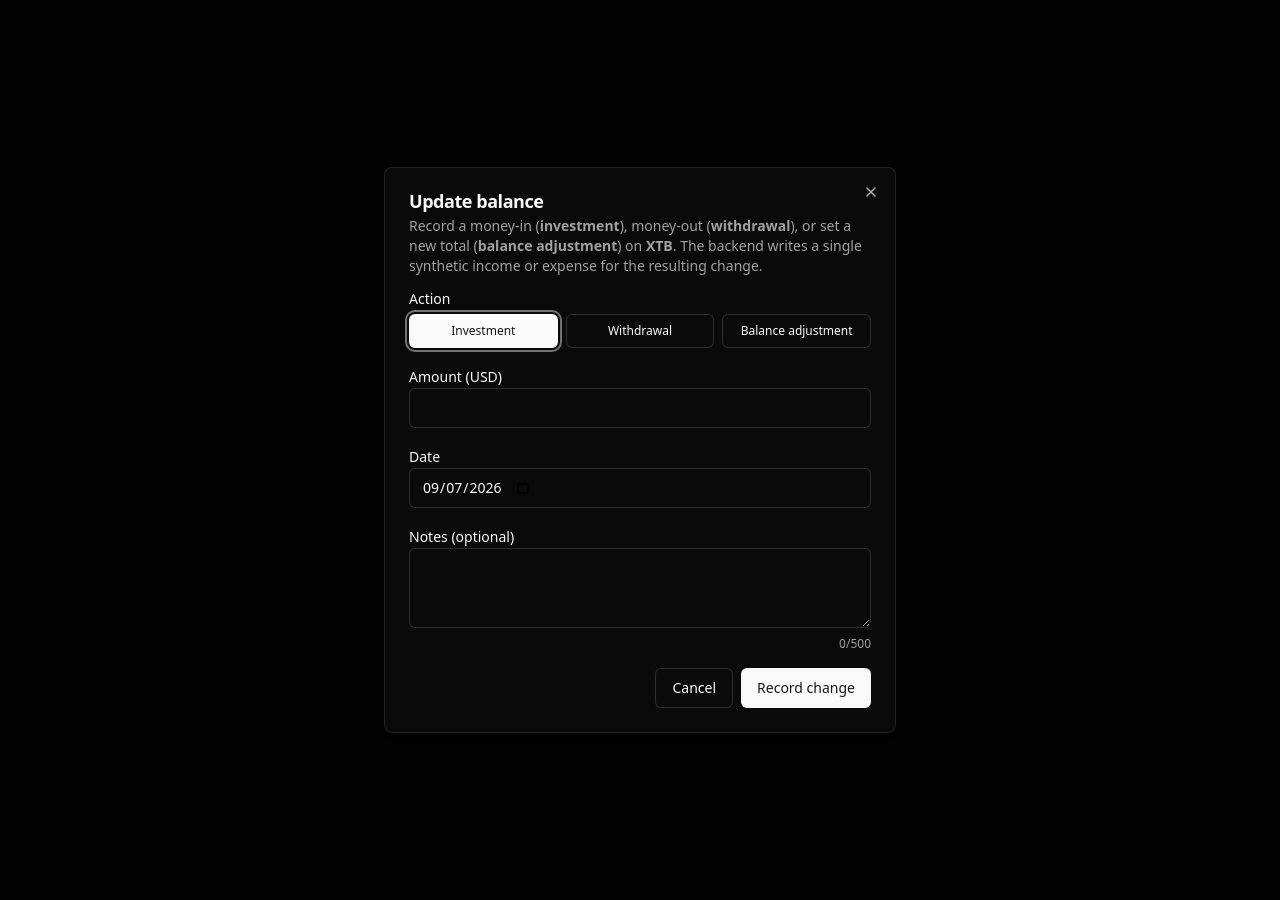
it: UpdateBalanceDialog › rejects a non-positive amount in Investment mode
The width and height of the screenshot is (1280, 900).
Expected: the button with test id "adjust-submit-button" is shown, [741, 668, 871, 708]
Type "0" into the number field with test id "balance-amount-input" at (640, 408), box [409, 388, 871, 428]
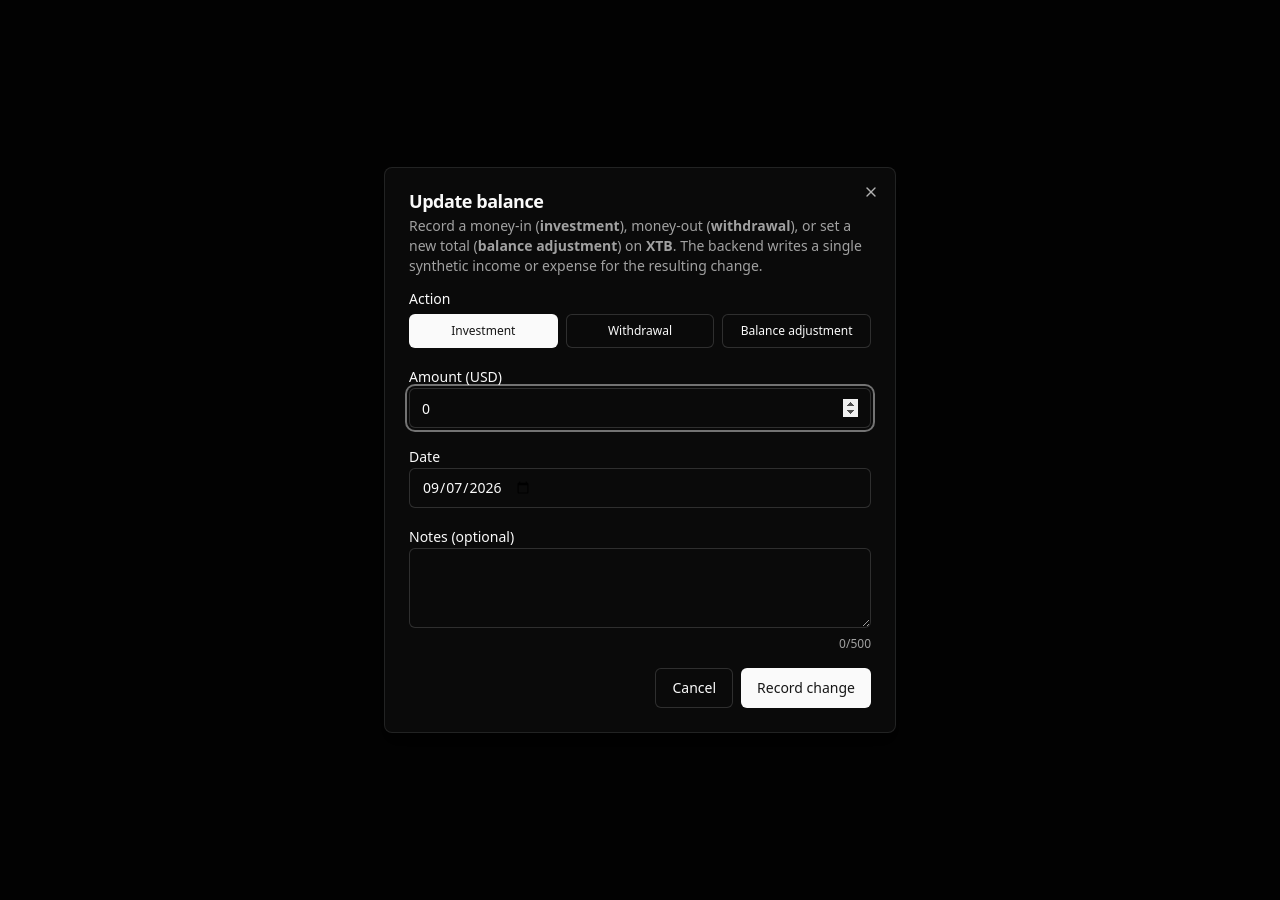
Click the button with test id "adjust-submit-button" at (806, 688), box [741, 668, 871, 708]
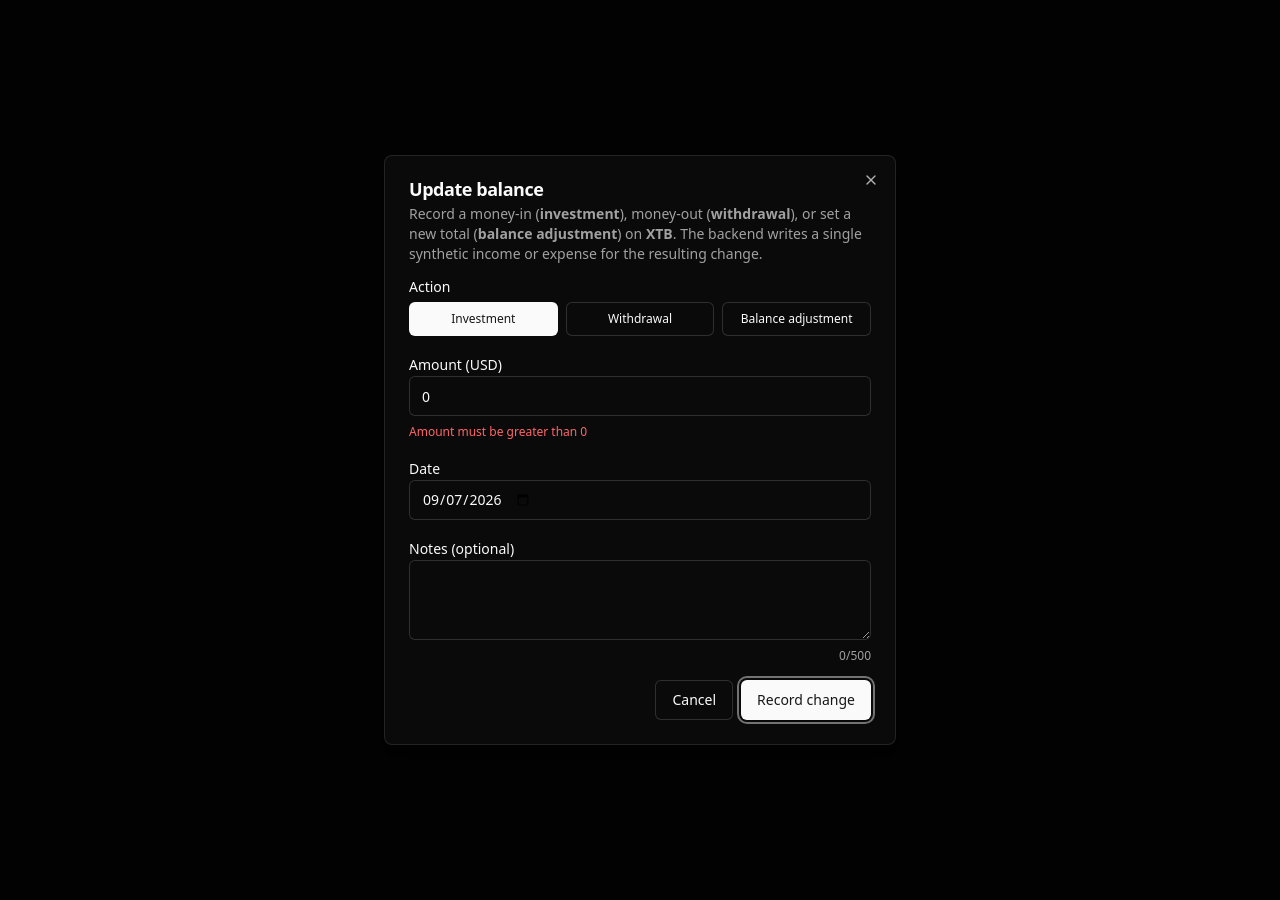
Expected: the text "Amount must be greater than 0" is shown, [409, 423, 587, 440]
